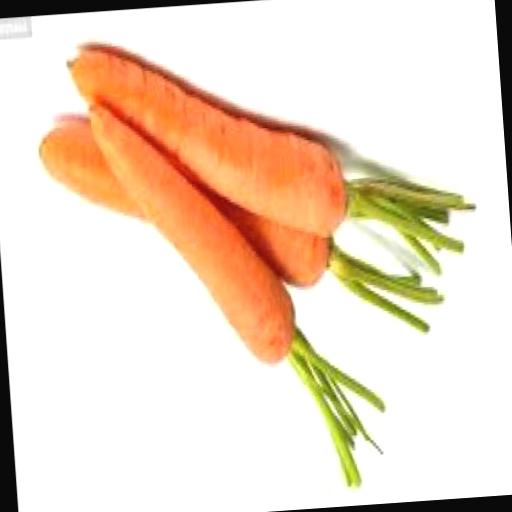biodegradable: (86, 88, 389, 511), (64, 18, 477, 301), (31, 80, 443, 363)
